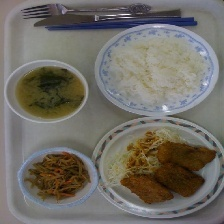rice: (98, 29, 214, 110)
